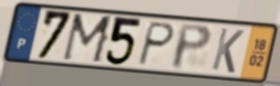5: (104, 15, 146, 67)
7: (36, 8, 74, 61)
K: (209, 26, 246, 75)
M: (59, 12, 116, 66)
P: (170, 23, 214, 72), (135, 20, 177, 67)
